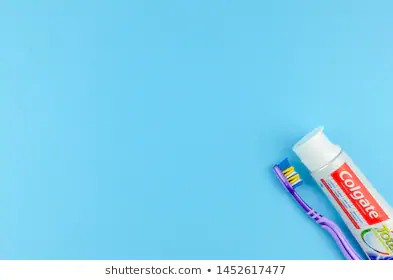colgate-total-150gm: (287, 118, 393, 250)
toothbrush: (271, 157, 341, 254)
